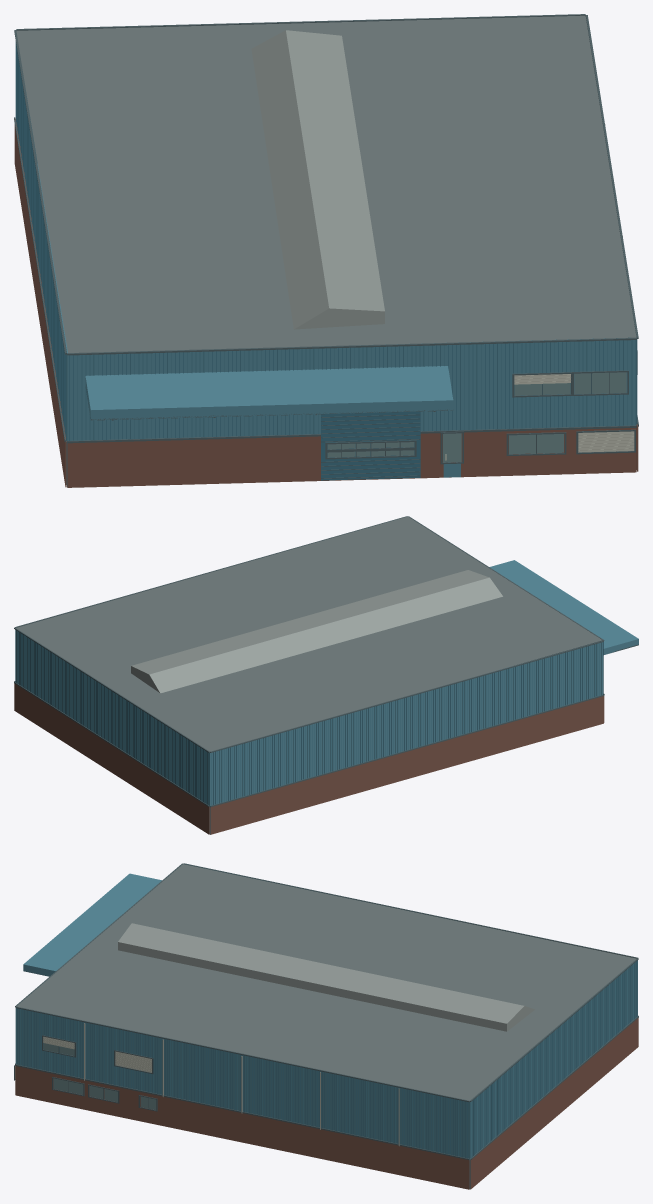
The model's file is haparandaweg-57.glb.
The picture shows the model from 3 angles, top to bottom: view 1: azimuth 30°, elevation 25°; view 2: azimuth 150°, elevation 25°; view 3: azimuth 270°, elevation 25°; orthographic projection. The views are drawn at different scales.
Parts seen in each view (by area): view 1: haparandaweg-57; view 2: haparandaweg-57; view 3: haparandaweg-57.
Boxes of the visible parts, left/top/right/bottom form: haparandaweg-57: left=14, top=14, right=638, bottom=487; haparandaweg-57: left=14, top=516, right=638, bottom=834; haparandaweg-57: left=14, top=863, right=638, bottom=1189.
Bounding box in the file's own units: 42.67 × 8.27 × 46.35.
